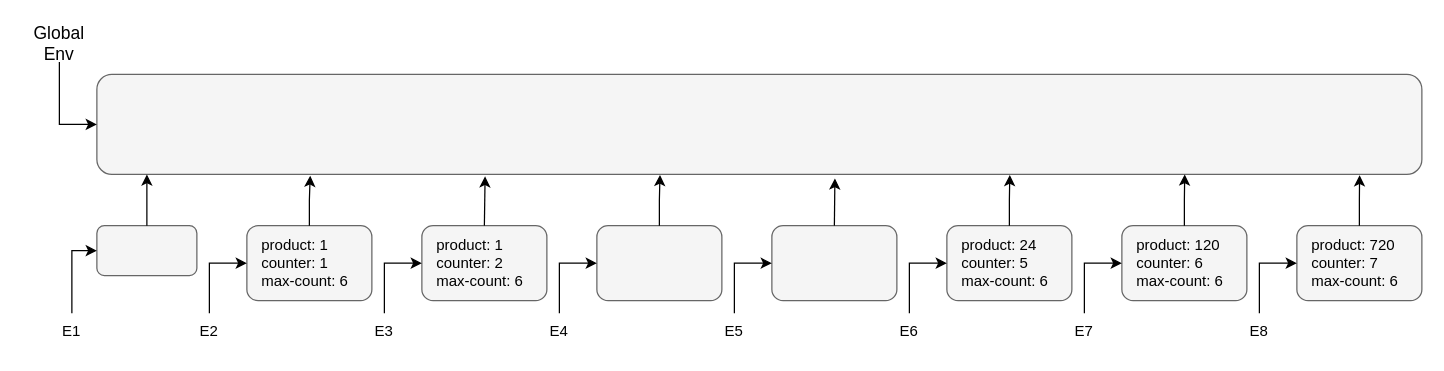
Some shapes in this 1444 by 371 pixel diagram are drawn without their labels. The centre of each missing label's shape, as x and y in pixels:
"n: 6" goes at pixel 146 250.
"product: 2 counter: 3 max-count: 6" goes at pixel 659 262.
"product: 6 counter: 4 max-count: 6" goes at pixel 834 262.
